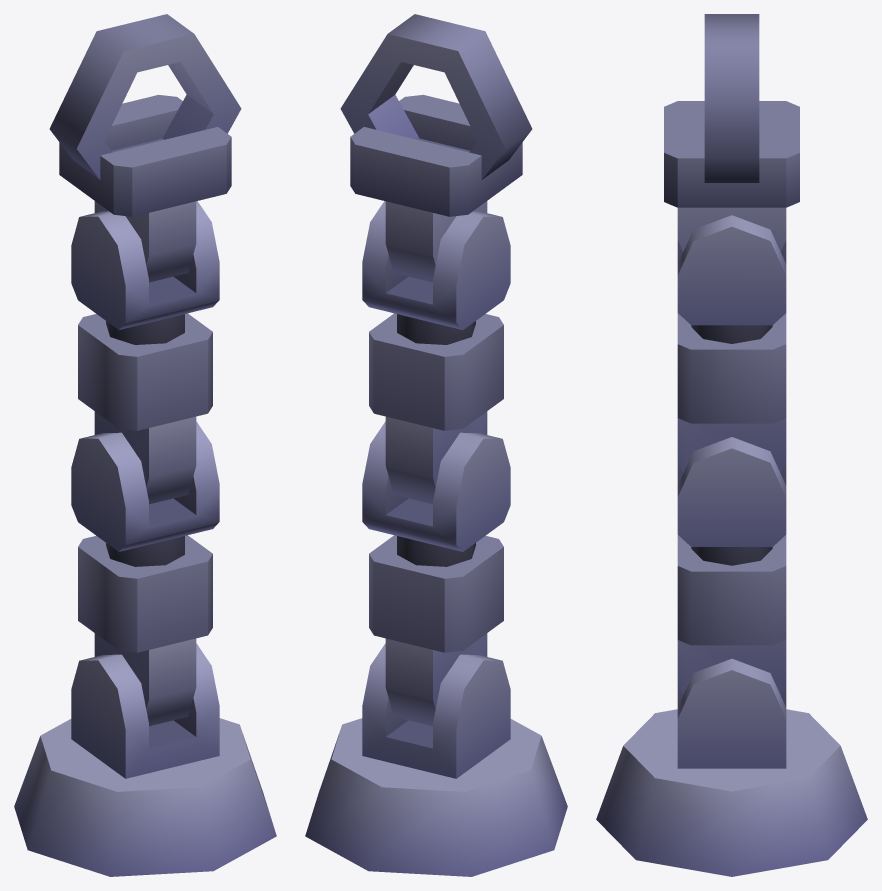
Rendered from robot-arm-a.fbx.
3 renders of one model, left to right at view 1: azimuth 30°, elevation 25°; view 2: azimuth 150°, elevation 25°; view 3: azimuth 270°, elevation 25°, orthographic.
Parts seen in each view (by area): view 1: robot-arm-a, element-b, element-d, element-f, element-a, element-c, element-e, element-f_1, element-e_2, element-f_4, claw-b_2, claw-b (+8 smaller); view 2: robot-arm-a, element-b, element-d, element-f, element-a, element-c, element-e, element-f_1, claw-b_2, element-e_2, claw-b, element-f_5 (+9 smaller); view 3: robot-arm-a, element-d, element-b, element-f, element-a, element-c, element-e, claw-a_2, element-f_1, element-e_2, claw-a, element-f_4 (+6 smaller).
Boxes of the visible parts, bbox=[...] form: robot-arm-a: bbox=[14, 718, 276, 876]; element-b: bbox=[78, 535, 212, 726]; element-d: bbox=[78, 313, 212, 504]; element-f: bbox=[59, 103, 231, 259]; element-a: bbox=[71, 643, 219, 778]; element-c: bbox=[71, 421, 219, 551]; element-e: bbox=[71, 201, 219, 328]; element-f_1: bbox=[59, 94, 231, 264]; element-e_2: bbox=[71, 216, 219, 329]; element-f_4: bbox=[59, 111, 231, 265]; claw-b_2: bbox=[49, 22, 158, 179]; claw-b: bbox=[50, 32, 158, 179]; robot-arm-a: bbox=[305, 718, 567, 876]; element-b: bbox=[369, 535, 503, 726]; element-d: bbox=[369, 313, 503, 504]; element-f: bbox=[350, 104, 522, 263]; element-a: bbox=[362, 643, 510, 778]; element-c: bbox=[362, 421, 510, 551]; element-e: bbox=[362, 201, 510, 328]; element-f_1: bbox=[350, 94, 522, 264]; claw-b_2: bbox=[423, 22, 532, 178]; element-e_2: bbox=[362, 216, 510, 329]; claw-b: bbox=[423, 33, 530, 178]; element-f_5: bbox=[350, 111, 522, 282]; robot-arm-a: bbox=[596, 709, 867, 876]; element-d: bbox=[677, 313, 786, 473]; element-b: bbox=[677, 535, 786, 694]; element-f: bbox=[664, 101, 799, 251]; element-a: bbox=[677, 658, 786, 768]; element-c: bbox=[677, 437, 786, 546]; element-e: bbox=[677, 215, 786, 325]; claw-a_2: bbox=[704, 31, 759, 157]; element-f_1: bbox=[664, 101, 799, 251]; element-e_2: bbox=[677, 227, 786, 325]; claw-a: bbox=[704, 48, 759, 157]; element-f_4: bbox=[664, 155, 799, 250].
Size of the model in its own units: 100 by 320 by 100.
1 material, 1 textured.
